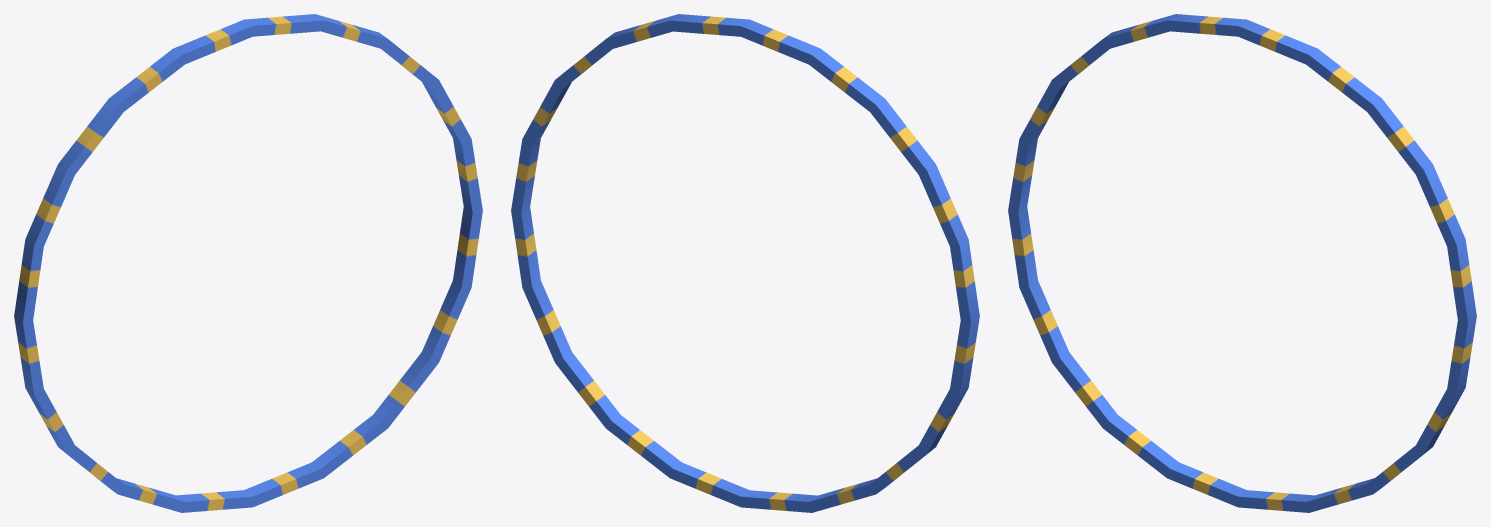
The model's file is MDL_Hoop.fbx.
3 views of the same model, side by side, from view 1: azimuth 30°, elevation 25°; view 2: azimuth 150°, elevation 25°; view 3: azimuth 330°, elevation 25° (orthographic).
Visible parts, largest first — view 1: HOOP; view 2: HOOP; view 3: HOOP.
Boxes of the visible parts, left/top/right/bottom form: HOOP: left=14, top=14, right=482, bottom=512; HOOP: left=511, top=14, right=979, bottom=512; HOOP: left=1008, top=14, right=1476, bottom=512.
Size of the model in its own units: 2 by 2 by 0.0667.
